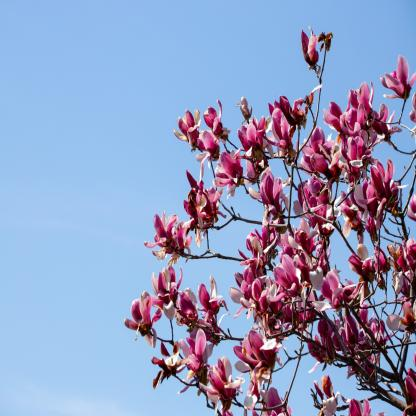Mokuren: (124, 25, 416, 416)
